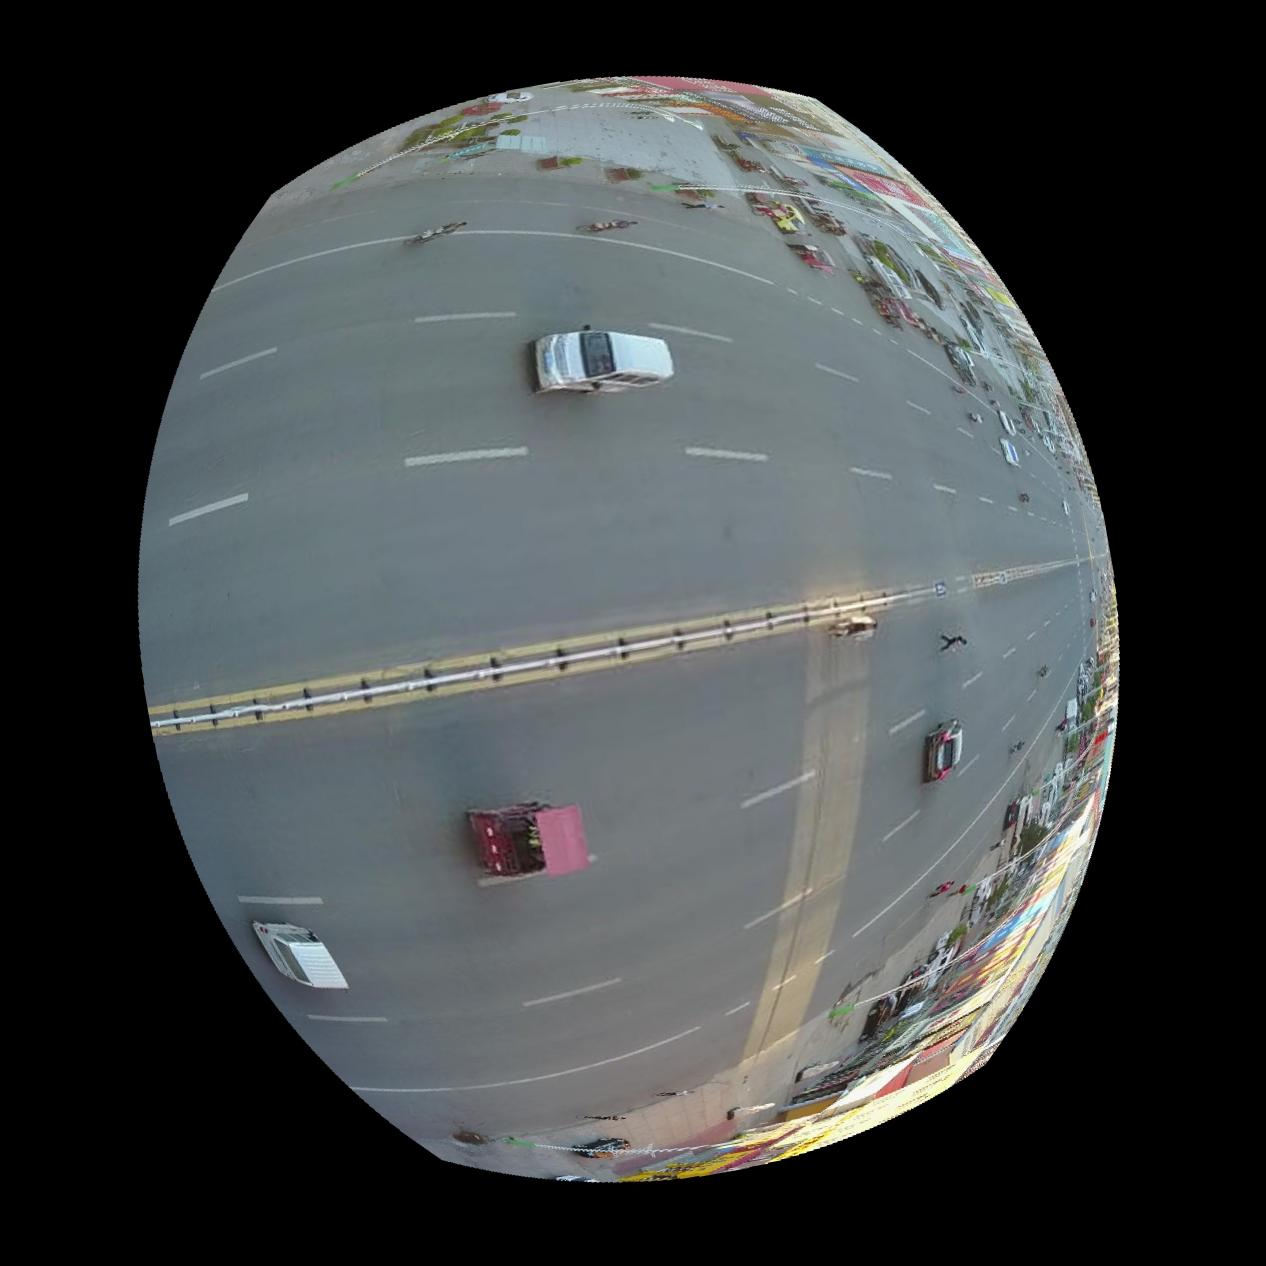cars: (530, 327, 672, 394), (466, 803, 587, 879), (250, 923, 347, 991), (924, 719, 963, 784)
